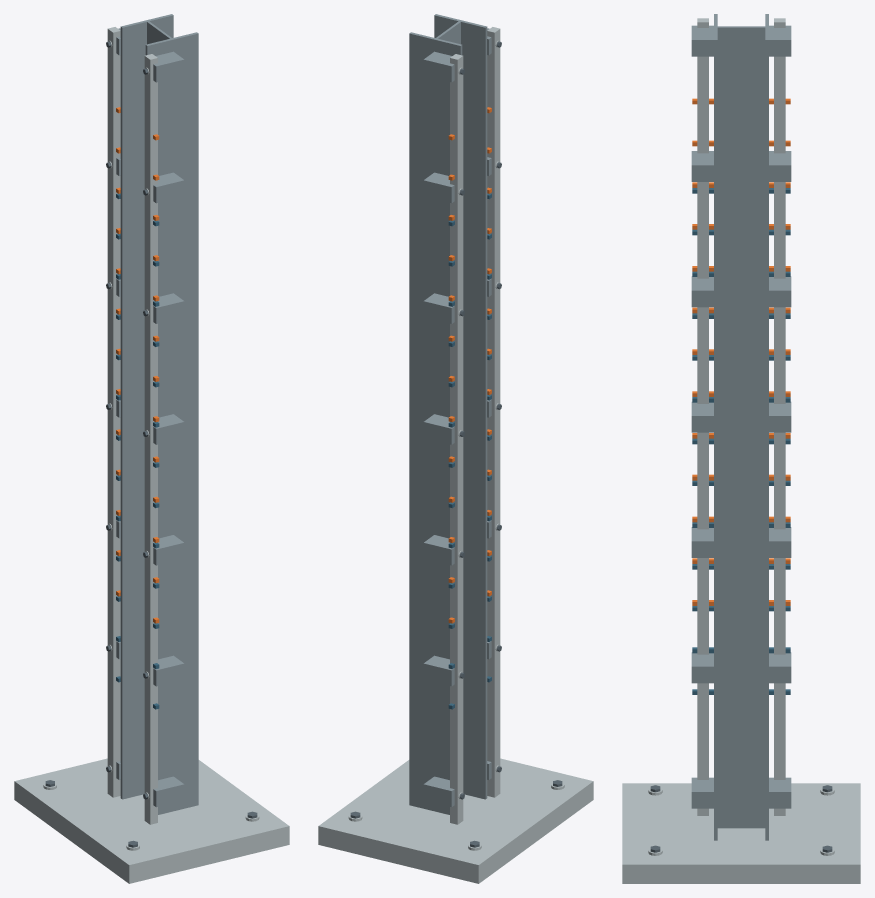
The model's file is climb-rail-fixture.glb.
3 views of the same model, side by side, from view 1: azimuth 30°, elevation 25°; view 2: azimuth 150°, elevation 25°; view 3: azimuth 270°, elevation 25° (orthographic). The views are drawn at different scales.
Visible parts, largest first — view 1: RailSupportGeometry_Steel, RailSupportGeometry_EdgeSteel, RailSupportGeometry_Bolts; view 2: RailSupportGeometry_Steel, RailSupportGeometry_EdgeSteel, RailSupportGeometry_Bolts; view 3: RailSupportGeometry_Steel, RailSupportGeometry_EdgeSteel.
Part boxes in pixels (left/top/right/bottom): RailSupportGeometry_Steel: left=116, top=14, right=198, bottom=814; RailSupportGeometry_EdgeSteel: left=14, top=27, right=289, bottom=883; RailSupportGeometry_Bolts: left=45, top=41, right=257, bottom=847; RailSupportGeometry_Steel: left=409, top=14, right=491, bottom=814; RailSupportGeometry_EdgeSteel: left=318, top=27, right=593, bottom=883; RailSupportGeometry_Bolts: left=350, top=41, right=562, bottom=847; RailSupportGeometry_Steel: left=691, top=14, right=791, bottom=840; RailSupportGeometry_EdgeSteel: left=622, top=18, right=860, bottom=883.
Size of the model in its own units: 1.25 by 5.89 by 1.55.
